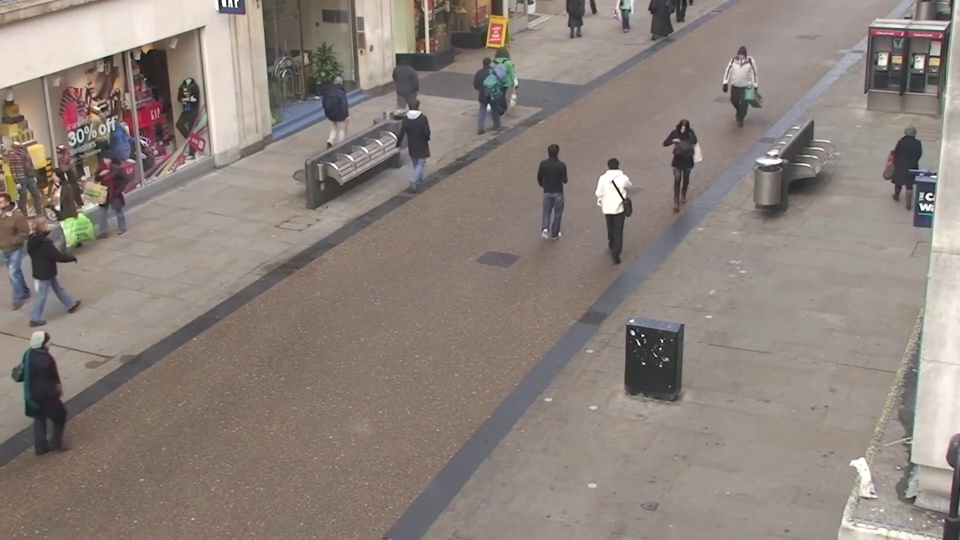pedestrian: (31, 320, 98, 468), (34, 207, 90, 324), (32, 166, 84, 272), (84, 152, 130, 255), (880, 118, 924, 217), (598, 147, 631, 252), (541, 136, 574, 238), (666, 119, 698, 216), (404, 90, 435, 178), (325, 70, 356, 152), (725, 47, 753, 125), (479, 52, 507, 129), (400, 52, 428, 129), (493, 44, 519, 119)
